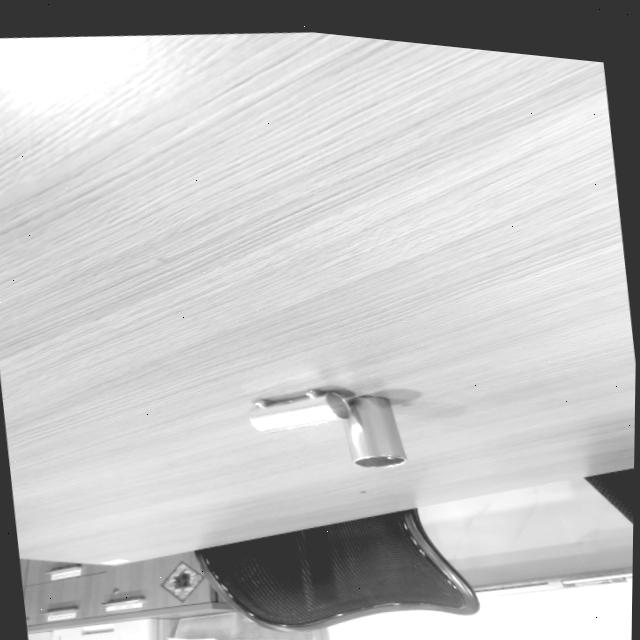Co_Lon: (337, 388, 406, 473)
Co_Nho: (245, 383, 349, 434)
